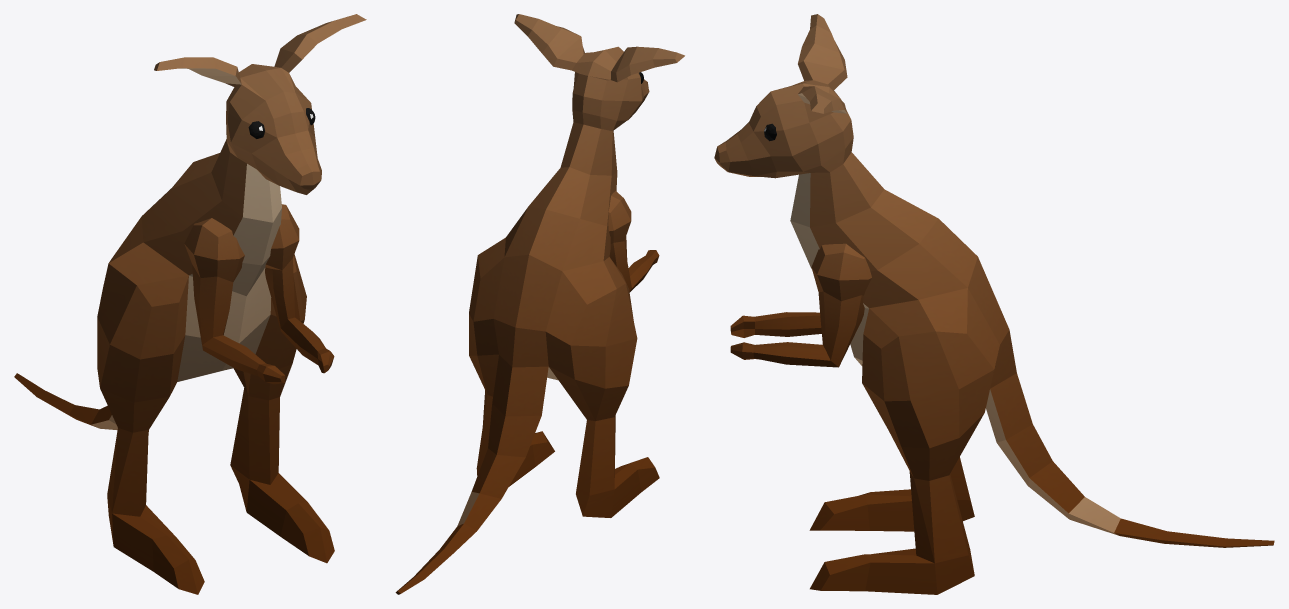
File: kangaroo.fbx
The picture shows the model from 3 angles, left to right: view 1: azimuth 30°, elevation 25°; view 2: azimuth 150°, elevation 25°; view 3: azimuth 270°, elevation 25°; orthographic projection. The views are drawn at different scales.
Visible parts, largest first — view 1: kangaroo, kangaroo_arms; view 2: kangaroo, kangaroo_arms; view 3: kangaroo, kangaroo_arms.
Part boxes in pixels (<box>): kangaroo: <box>14,14,366,594</box>; kangaroo_arms: <box>184,204,334,384</box>; kangaroo: <box>395,14,684,594</box>; kangaroo_arms: <box>608,191,659,292</box>; kangaroo: <box>714,14,1274,594</box>; kangaroo_arms: <box>730,243,871,367</box>.
Size of the model in its own units: 3.2 by 7.83 by 7.93.
